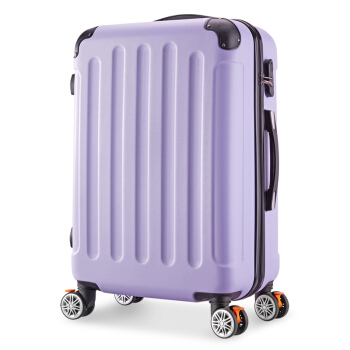luggage: (63, 14, 293, 337)
